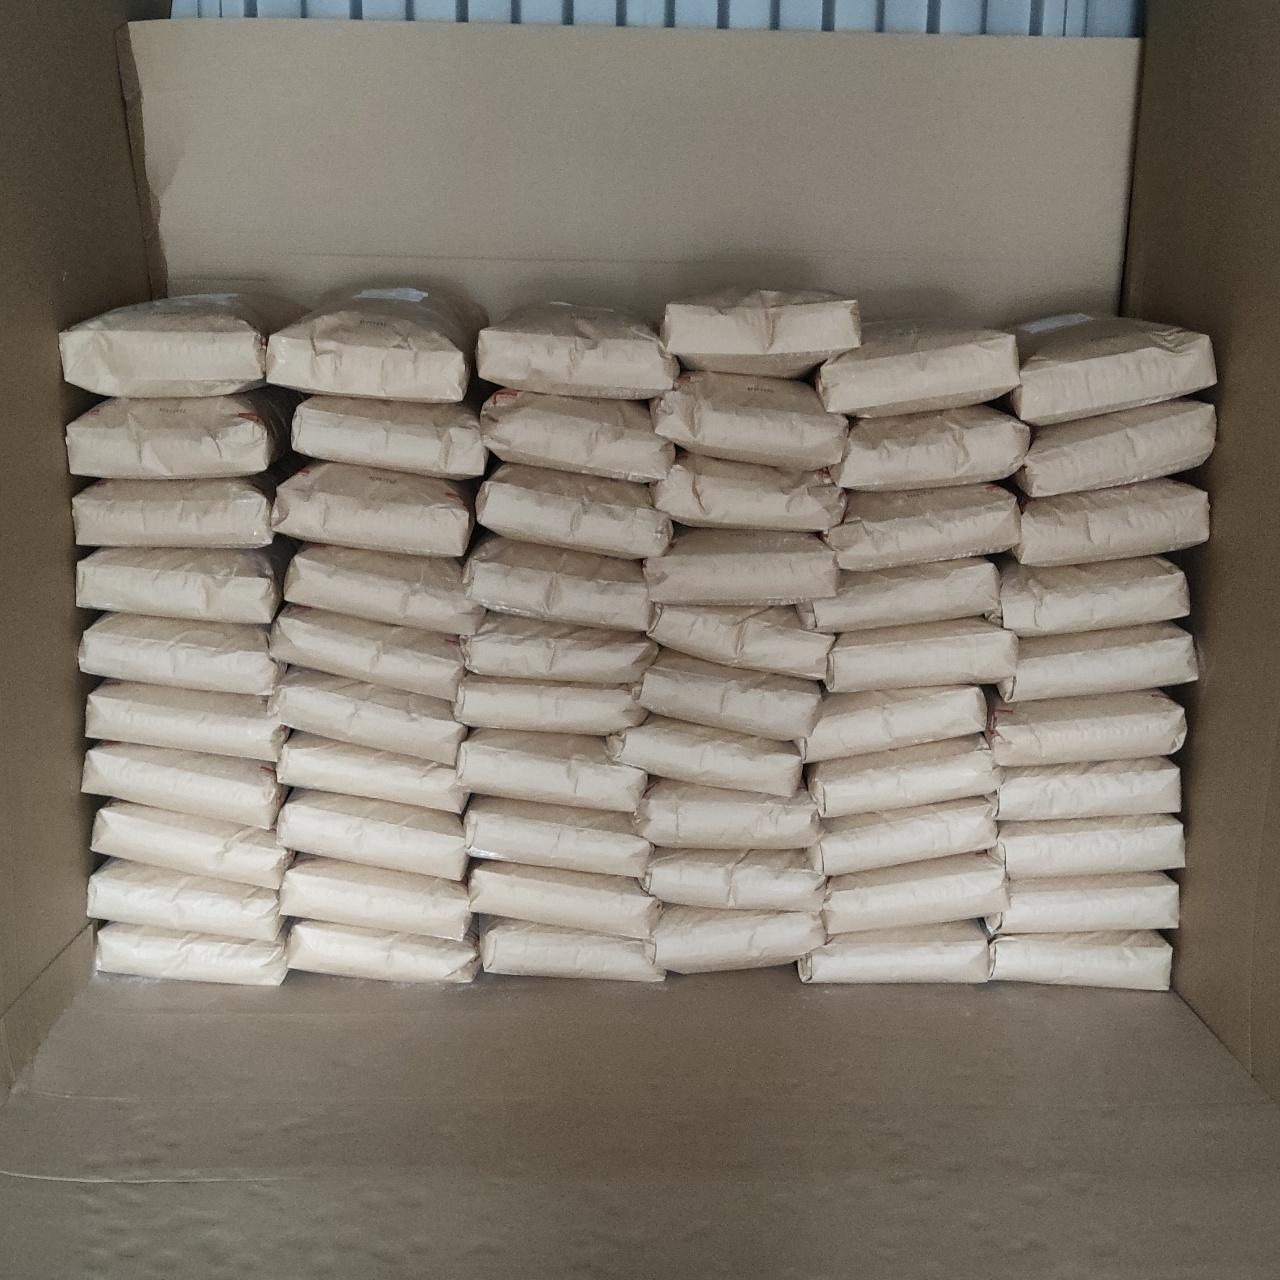sack: (267, 285, 487, 402), (59, 293, 302, 396), (1010, 314, 1214, 422), (652, 372, 846, 470), (272, 668, 462, 764), (276, 462, 470, 556), (478, 306, 676, 398), (816, 324, 1018, 414), (68, 394, 284, 478), (478, 464, 670, 558), (1018, 402, 1214, 494), (464, 534, 650, 630), (482, 390, 670, 482), (272, 606, 462, 696), (662, 288, 860, 374), (92, 802, 288, 886), (84, 744, 284, 826), (80, 614, 284, 694), (286, 546, 480, 630), (636, 650, 820, 738), (1014, 480, 1206, 564), (278, 792, 464, 878), (992, 556, 1188, 636), (826, 484, 1016, 566), (88, 682, 286, 760), (294, 398, 486, 478), (78, 548, 284, 622), (834, 408, 1028, 486), (608, 716, 798, 794), (808, 736, 998, 814), (1002, 624, 1196, 700), (466, 796, 650, 876), (460, 730, 644, 810), (654, 452, 842, 530), (278, 734, 464, 812), (646, 528, 836, 604), (90, 860, 278, 936), (800, 558, 998, 630), (282, 858, 468, 934), (824, 854, 1004, 932), (988, 692, 1182, 764), (464, 612, 654, 684), (810, 800, 994, 874), (470, 862, 658, 934), (800, 686, 986, 758), (74, 480, 270, 546), (648, 606, 830, 676), (828, 618, 1014, 686), (634, 778, 818, 846), (994, 816, 1182, 878), (480, 918, 662, 982), (288, 922, 478, 982), (456, 674, 644, 734), (800, 922, 988, 982), (994, 758, 1178, 818), (650, 906, 822, 970), (990, 874, 1178, 932), (98, 924, 286, 982), (642, 850, 822, 910), (990, 932, 1170, 988)
